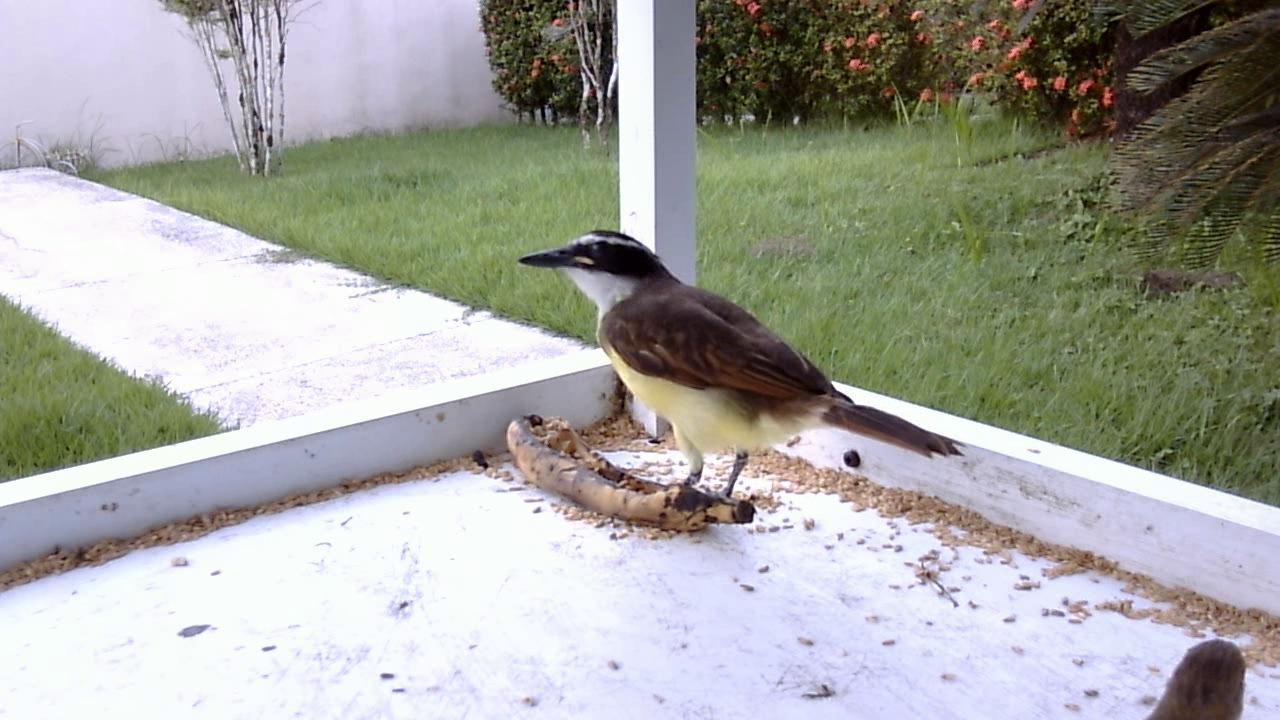bem_te_vi: (504, 221, 971, 524)
canario_do_amazonas: (1140, 630, 1254, 717)
